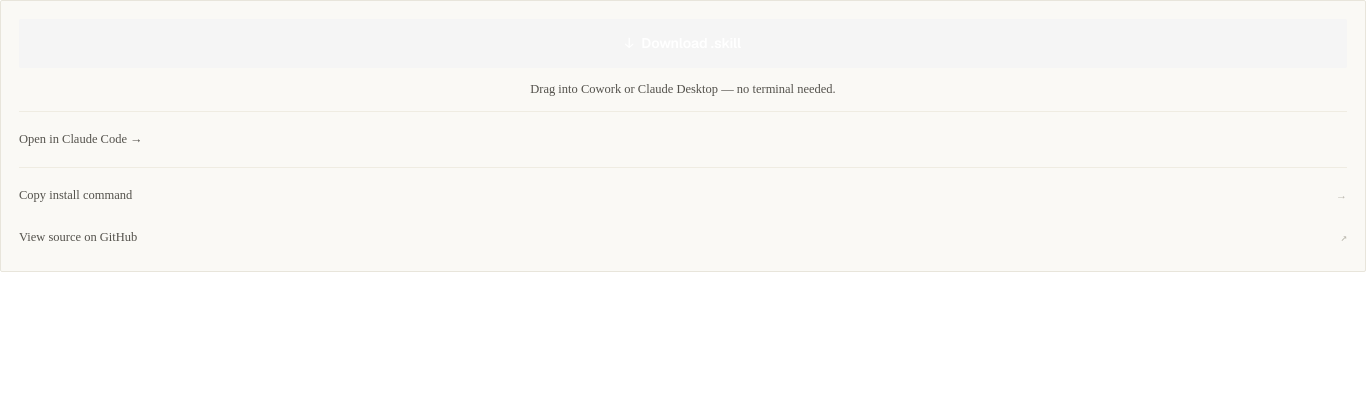
FeedbackPrompt › thumbs up: tracks feedback_up, writes the marker, shows thanks
Click the button "Copy install command →": click(76, 194) [19,180,1347,210]
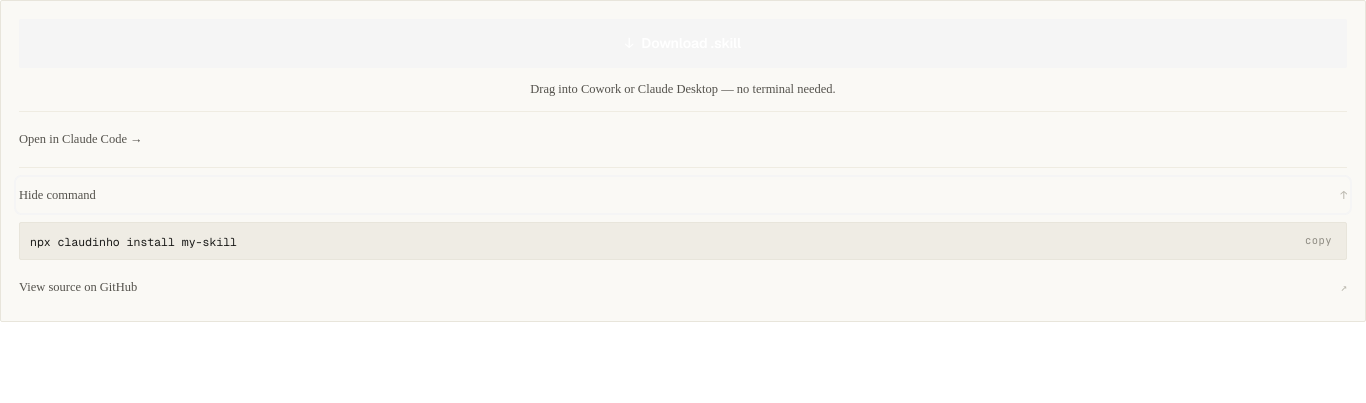
Click the button "copy": click(1319, 241) [1301,231,1336,251]
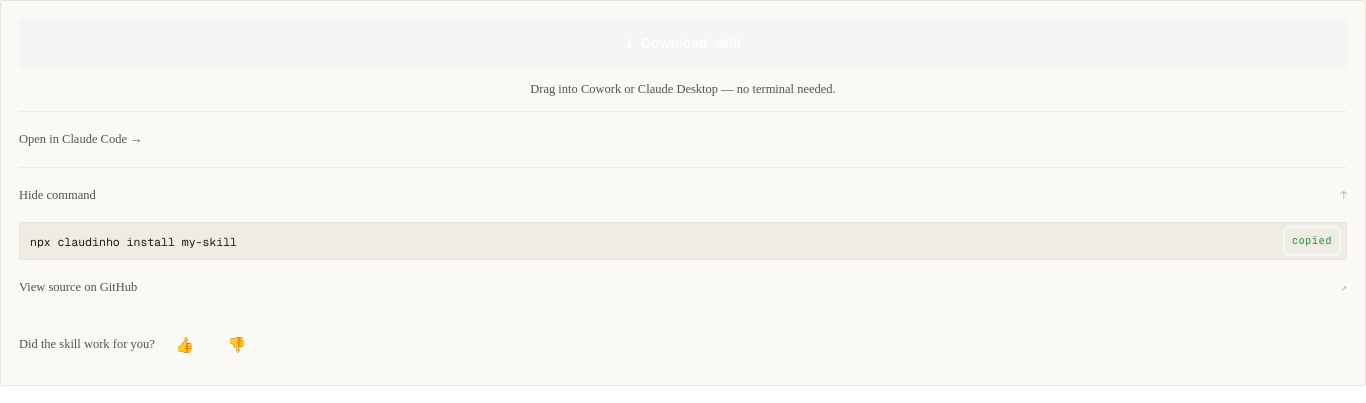
Click the button named "Yes, it worked": click(185, 345) [163,323,207,367]
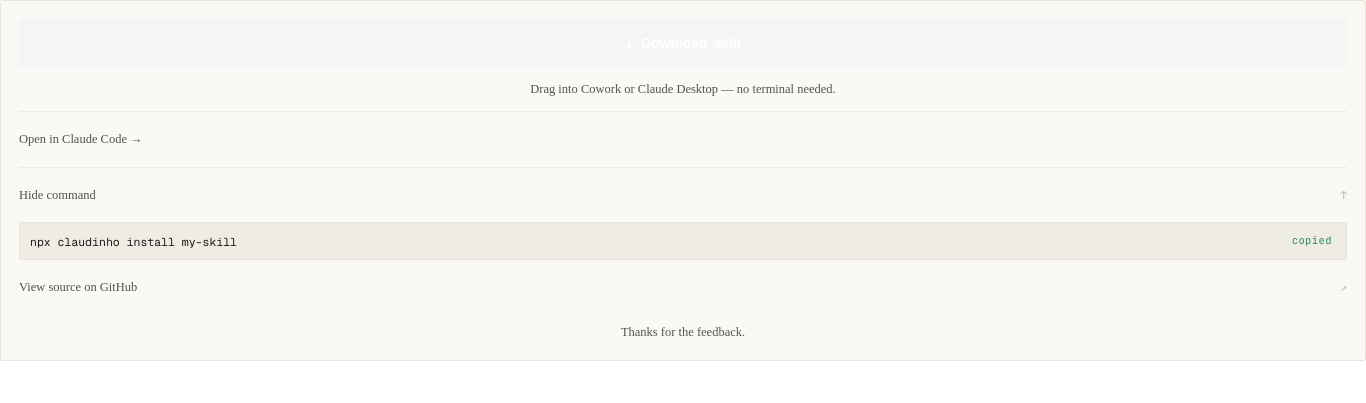
Check: the text "Thanks for the feedback." is shown, box [621,325,745,339]
Check: the text "Did the skill work for you?" is gone
